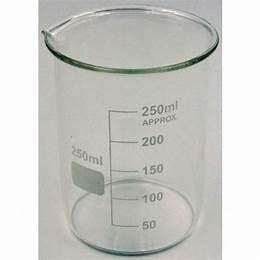Beaker: (40, 5, 219, 259)
